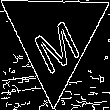M_NW: (26, 4, 83, 71)
